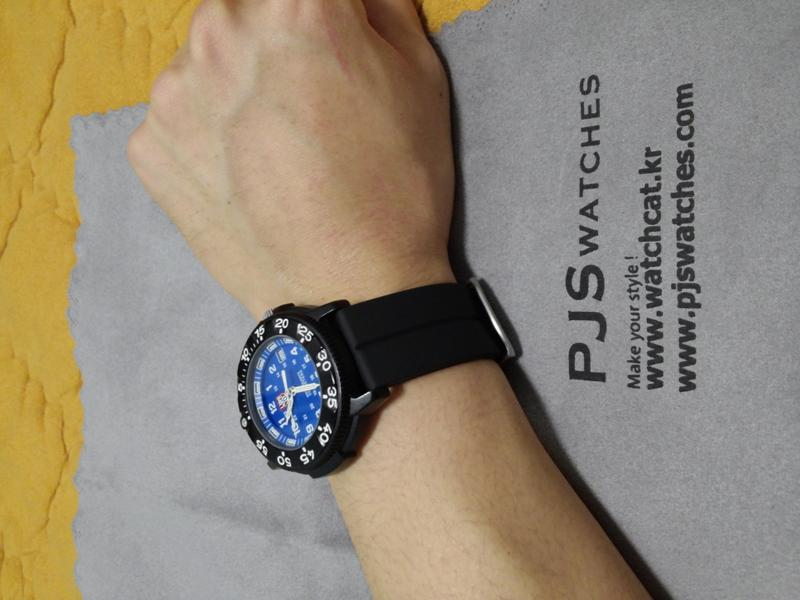watch: (223, 278, 518, 477)
